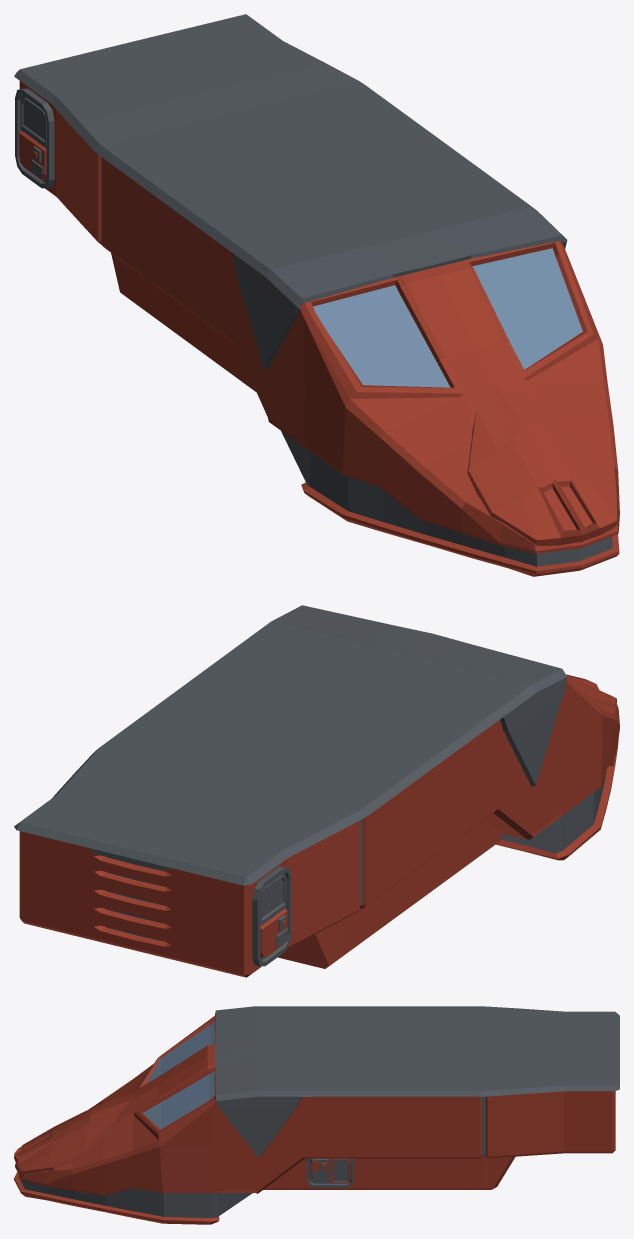
Rendered from Fighter_04_Body_Red.fbx.
3 views of the same model, one above another, from view 1: azimuth 30°, elevation 25°; view 2: azimuth 150°, elevation 25°; view 3: azimuth 270°, elevation 25° (orthographic). The views are drawn at different scales.
Parts seen in each view (by area): view 1: Fighter_04_Body_Red; view 2: Fighter_04_Body_Red; view 3: Fighter_04_Body_Red.
Part boxes in pixels (x1,y1,x2,y2): Fighter_04_Body_Red: (14,14,619,576); Fighter_04_Body_Red: (14,605,619,977); Fighter_04_Body_Red: (14,1006,619,1224).
Size of the model in its own units: 538 by 381 by 1554.
Materials: 3 (3 with a texture image).
